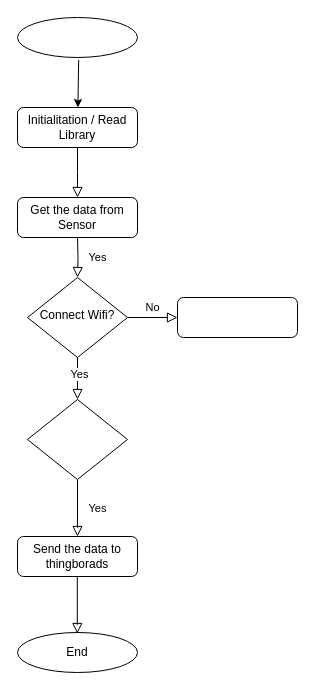
Some shapes in this 315 by 690 pixel diagram are drawn without their labels. The box of each missing label's shape, as (x1, y1, x2, y2) in pixels:
Check Token Thingboards?: (26, 398, 128, 480)
Failed Connect to Wifi: (176, 296, 298, 338)
Start: (16, 16, 138, 58)
